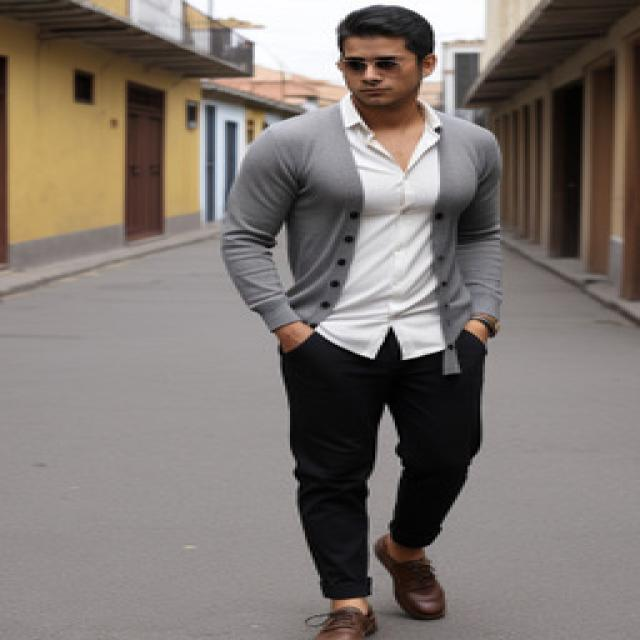Ai human 2: (212, 0, 534, 640)
